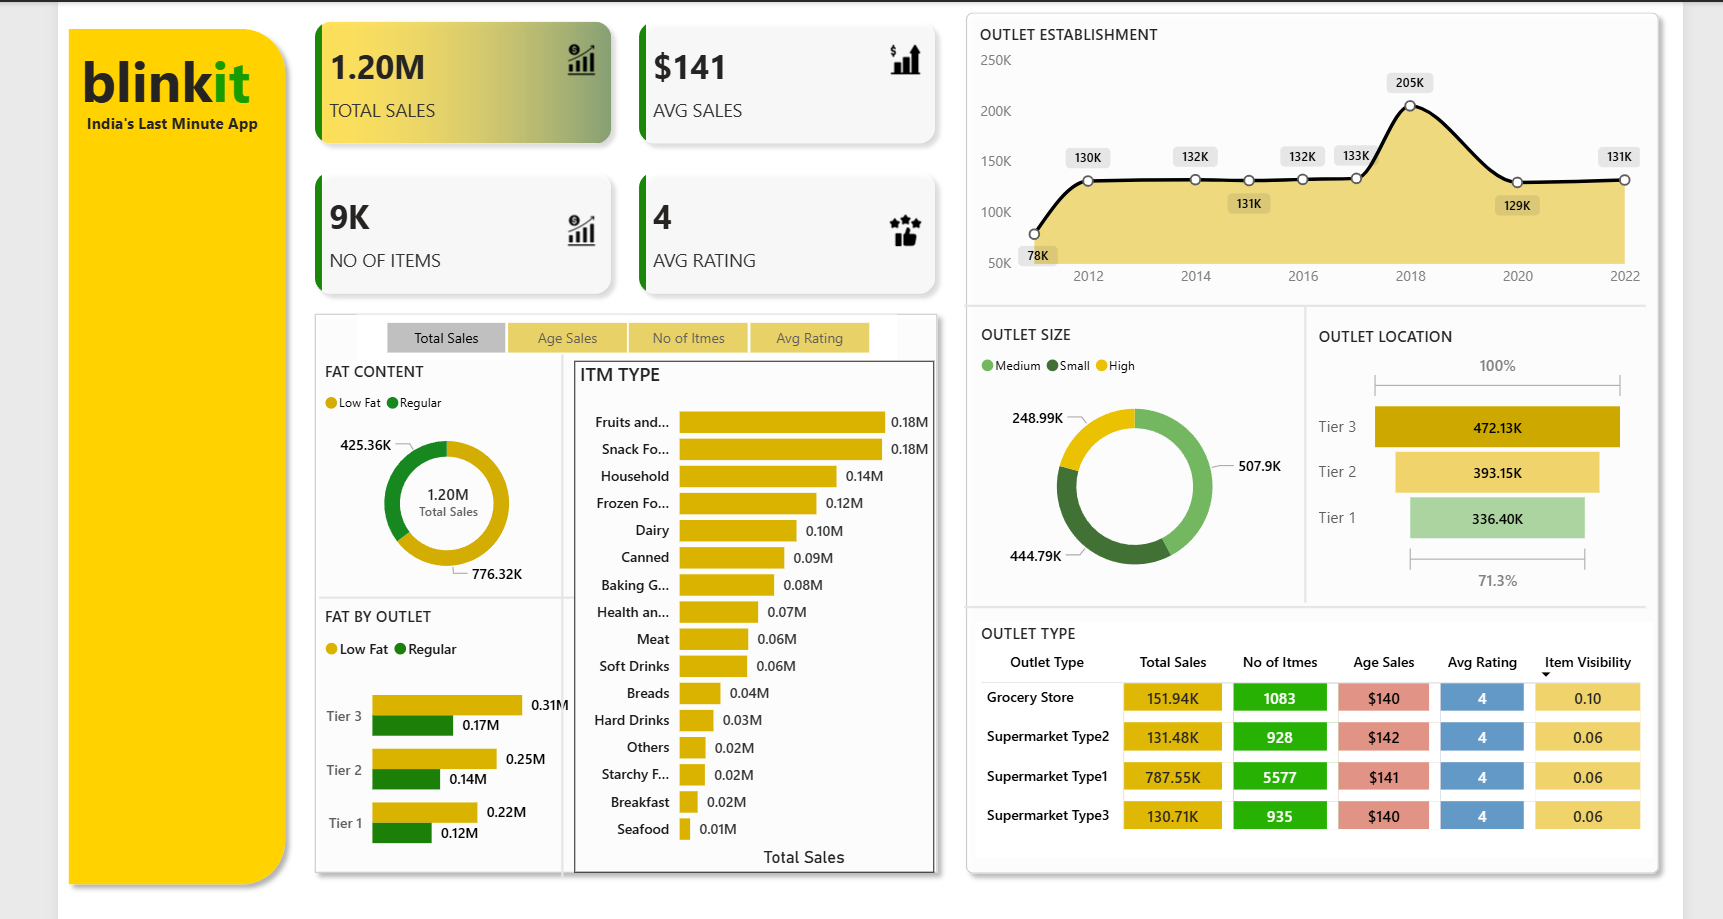

What the dashboard file says about the page in this screenshot:
{"tool":"powerbi","page":{"name":"Page 1","canvas":[1400,800],"ordinal":0},"visuals":[{"type":"shape","box":[0,14,204.8,755.5],"z":0},{"type":"textbox","box":[15.3,29.3,176.8,92.8],"z":1000},{"type":"textbox","box":[6.4,90.3,184.4,31.8],"z":2000},{"type":"cardVisual","fields":{"Data":["BlinkIT Grocery Data.Total Sales","BlinkIT Grocery Data.Age Sales","BlinkIT Grocery Data.No of Itmes","BlinkIT Grocery Data.Avg Rating"]},"box":[204.8,0,568.5,269.6],"z":3000},{"type":"shape","box":[212.4,259.4,554.5,499.8],"z":4000},{"type":"donutChart","title":"FAT CONTENT","fields":{"Y":["BlinkIT Grocery Data.Total Sales"],"Category":["BlinkIT Grocery Data.Item Fat Content"]},"box":[225.1,309,220,200.9],"z":5000},{"type":"slicer","fields":{"Values":["Metrics.Metrics"]},"box":[256.9,269.6,465.5,39.4],"z":6000},{"type":"cardVisual","fields":{"Data":["BlinkIT Grocery Data.Total Sales"]},"box":[279.8,391.7,113.2,76.3],"z":7000},{"type":"clusteredBarChart","title":"FAT BY OUTLET","fields":{"Y":["BlinkIT Grocery Data.Total Sales"],"Category":["BlinkIT Grocery Data.Outlet Location Type"],"Series":["BlinkIT Grocery Data.Item Fat Content"]},"box":[225.1,520.2,220,230.2],"z":8000},{"type":"shape","box":[225.1,506.2,220,14],"z":9000},{"type":"shape","box":[424.8,304,20.3,451.5],"z":10000},{"type":"barChart","title":"ITM TYPE","fields":{"Y":["BlinkIT Grocery Data.Total Sales"],"Category":["BlinkIT Grocery Data.Item Type"]},"box":[445.1,309,310.3,441.3],"z":11000},{"type":"shape","box":[773.3,0,615,760],"z":12000},{"type":"lineChart","title":"OUTLET ESTABLISHMENT","fields":{"Category":["BlinkIT Grocery Data.Outlet Establishment Year"],"Y":["BlinkIT Grocery Data.Total Sales"]},"box":[789.8,17.8,578.7,236.6],"z":13000},{"type":"donutChart","title":"OUTLET SIZE","fields":{"Y":["BlinkIT Grocery Data.Total Sales"],"Category":["BlinkIT Grocery Data.Outlet Size"]},"box":[791.1,277.3,274.7,236.6],"z":14000},{"type":"shape","box":[1068.3,262,12.7,255.6],"z":15000},{"type":"funnel","title":"OUTLET LOCATION","fields":{"Y":["Sum(BlinkIT Grocery Data.Sales)"],"Category":["BlinkIT Grocery Data.Outlet Location Type"]},"box":[1081,278.5,274.7,235.3],"z":16000},{"type":"shape","box":[780.9,254.4,587.6,15.3],"z":17000},{"type":"pivotTable","title":"OUTLET TYPE","fields":{"Rows":["BlinkIT Grocery Data.Outlet Type"],"Values":["BlinkIT Grocery Data.Total Sales","BlinkIT Grocery Data.No of Itmes","BlinkIT Grocery Data.Age Sales","BlinkIT Grocery Data.Avg Rating","Avg(BlinkIT Grocery Data.Item Visibility)"]},"box":[791.1,534.2,583.8,203.5],"z":18000},{"type":"shape","box":[780.9,513.8,587.6,15.3],"z":19000}]}

Visuals, with their boxes on the page's 1400x800 design canvas (x1, y1, x2, y2). These are canvas units, not pixel positions in the 1723x919 screenshot, which may show the page scaled, cropped or inside an application window:
shape: <region>0, 14, 205, 770</region>
textbox: <region>15, 29, 192, 122</region>
textbox: <region>6, 90, 191, 122</region>
cardVisual - BlinkIT Grocery Data.Total Sales x BlinkIT Grocery Data.Age Sales: <region>205, 0, 773, 270</region>
shape: <region>212, 259, 767, 759</region>
"FAT CONTENT" donutChart: <region>225, 309, 445, 510</region>
slicer - Metrics.Metrics: <region>257, 270, 722, 309</region>
cardVisual - BlinkIT Grocery Data.Total Sales: <region>280, 392, 393, 468</region>
"FAT BY OUTLET" clusteredBarChart: <region>225, 520, 445, 750</region>
shape: <region>225, 506, 445, 520</region>
shape: <region>425, 304, 445, 756</region>
"ITM TYPE" barChart: <region>445, 309, 755, 750</region>
shape: <region>773, 0, 1388, 760</region>
"OUTLET ESTABLISHMENT" lineChart: <region>790, 18, 1368, 254</region>
"OUTLET SIZE" donutChart: <region>791, 277, 1066, 514</region>
shape: <region>1068, 262, 1081, 518</region>
"OUTLET LOCATION" funnel: <region>1081, 278, 1356, 514</region>
shape: <region>781, 254, 1368, 270</region>
"OUTLET TYPE" pivotTable: <region>791, 534, 1375, 738</region>
shape: <region>781, 514, 1368, 529</region>
